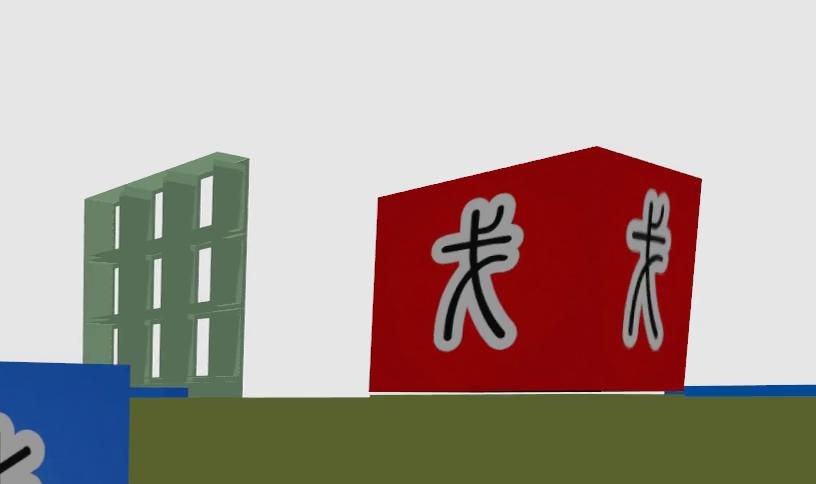KFS_FAKE: (370, 147, 700, 392), (432, 193, 524, 352), (622, 189, 672, 350)
KFS_REAL: (0, 362, 131, 484), (0, 413, 44, 484)
